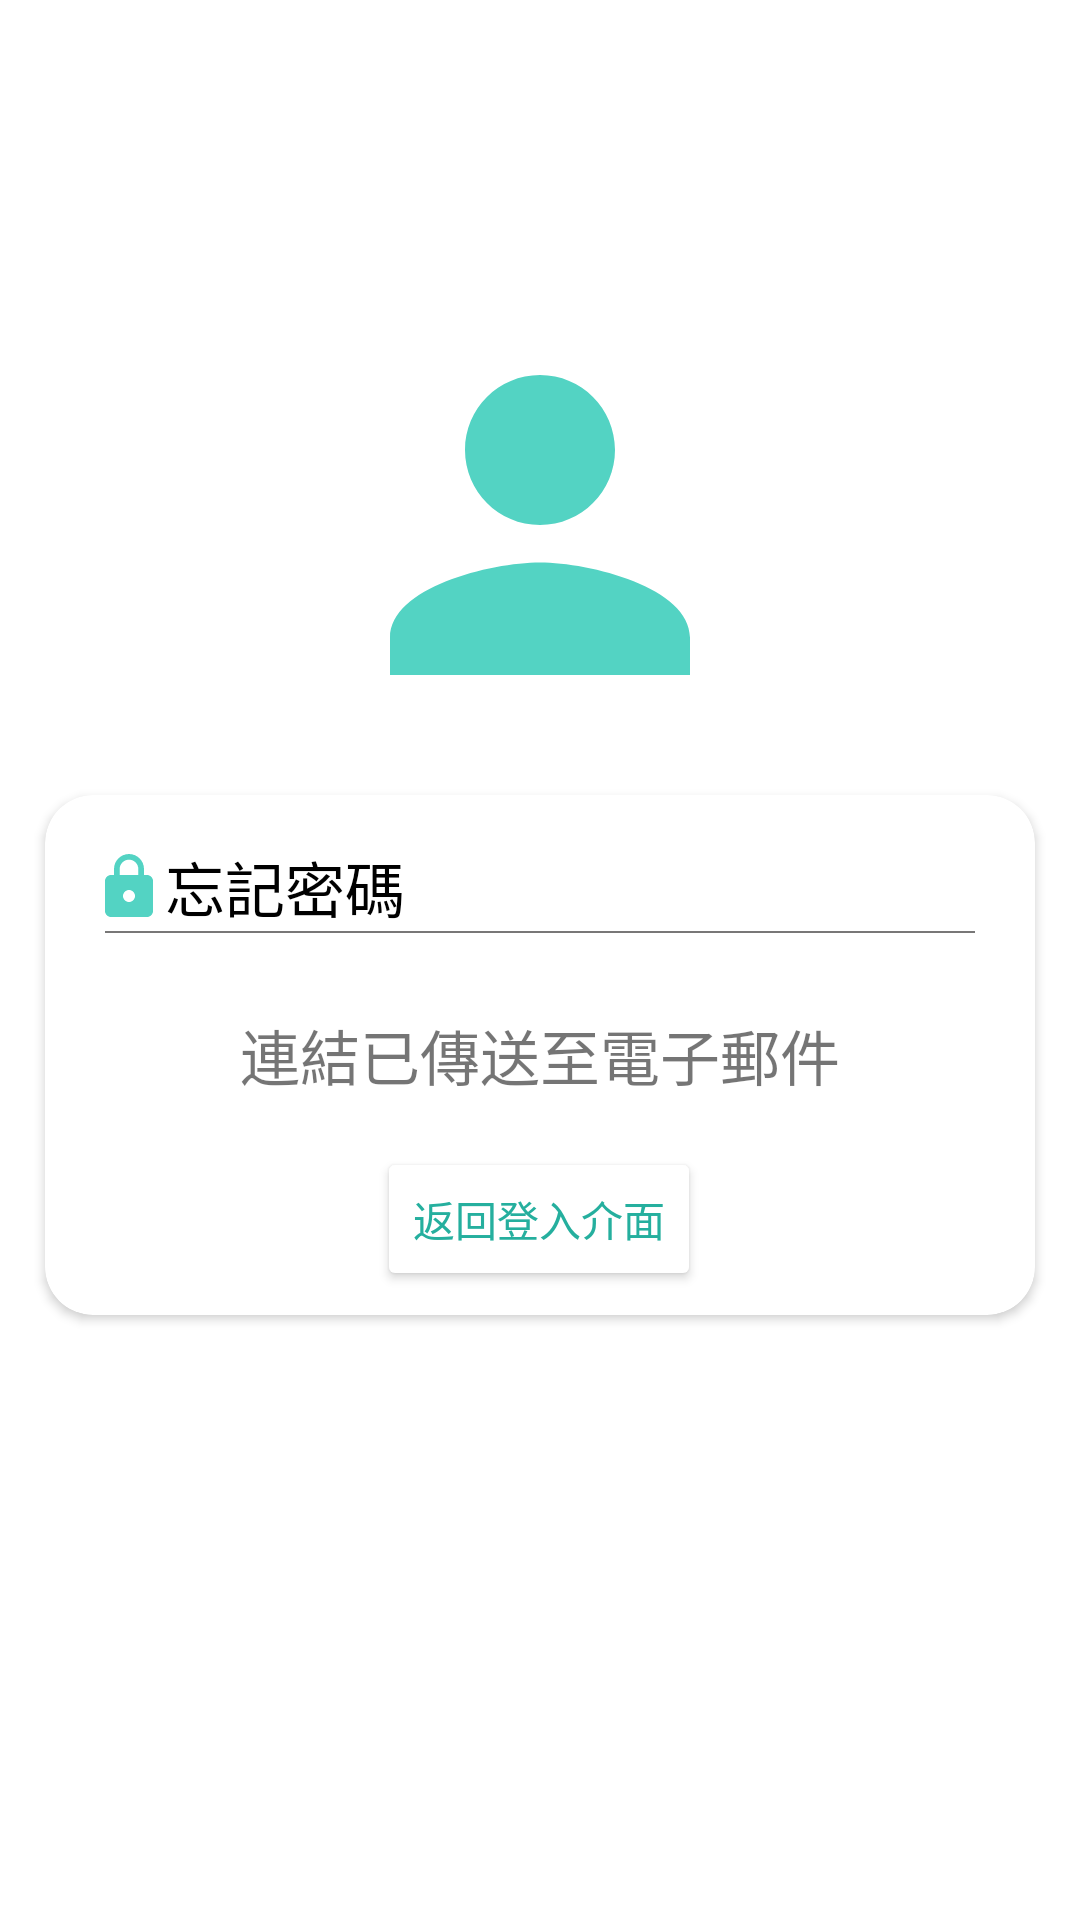

Where icons sit on this 1080px x 1920px app screen, as (x1, y1, x2, y2):
person: (390, 375, 690, 675)
